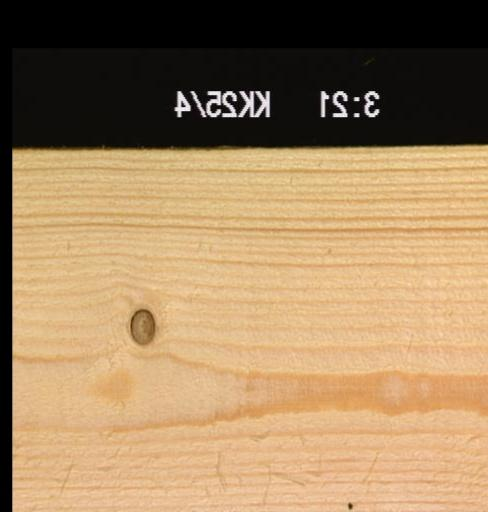dry_knot: (129, 306, 157, 346)
